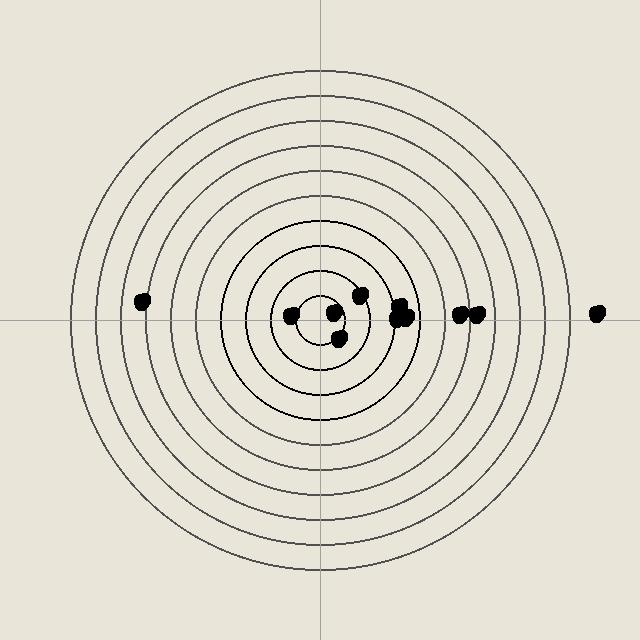horizontal_scatter: (586, 303, 606, 323), (449, 304, 469, 324), (323, 302, 343, 322), (349, 285, 369, 305), (466, 304, 486, 324), (131, 291, 151, 311), (395, 307, 415, 327), (280, 305, 300, 325), (386, 308, 406, 328), (328, 328, 348, 348), (388, 296, 408, 316)
